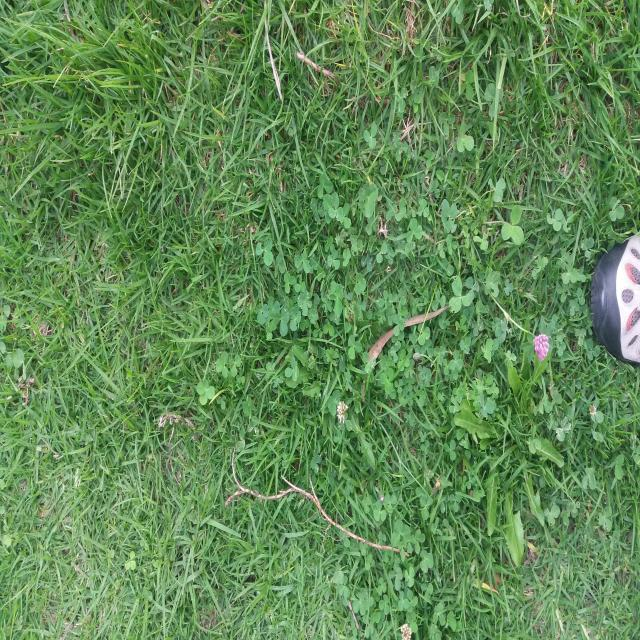Four Leaf Clover: (196, 378, 215, 406), (327, 389, 343, 415), (297, 290, 312, 316)
